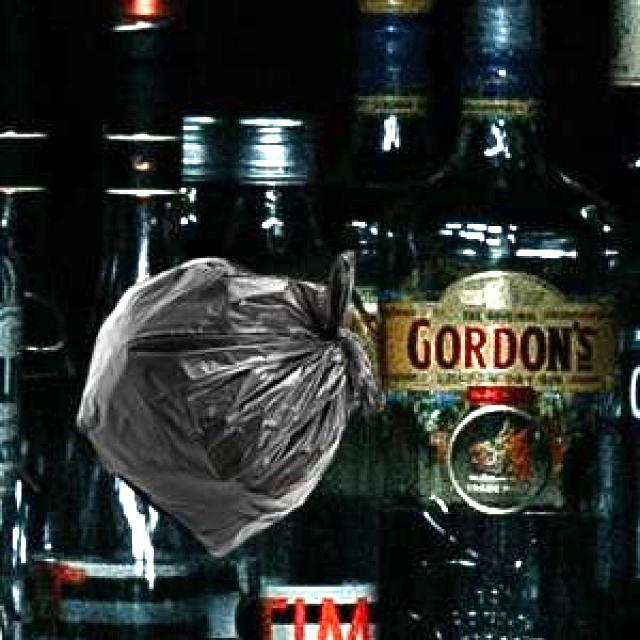Garbage_Bag: (74, 248, 384, 554)
